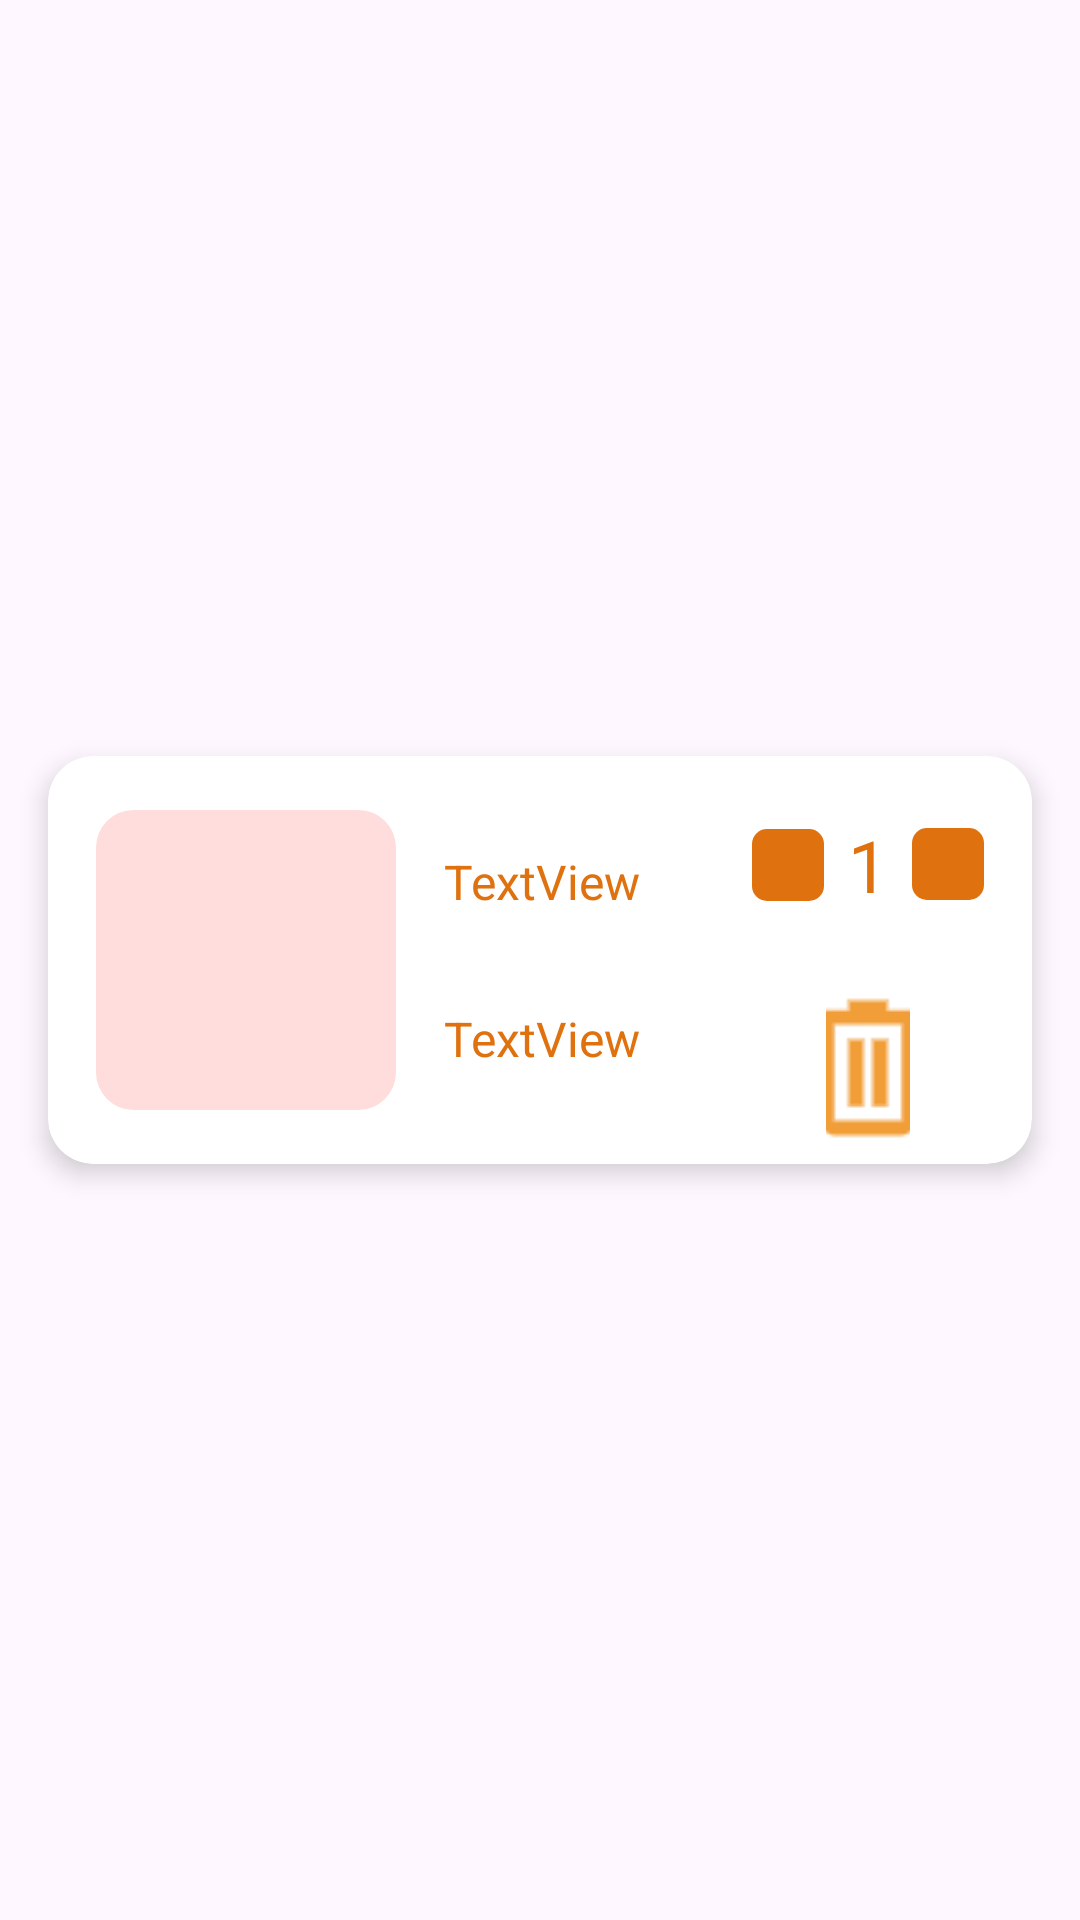

Icons on this 1080x1920 Android screen, each with its box as (x1, y1, x2, y2):
trash: (826, 998, 910, 1138)
